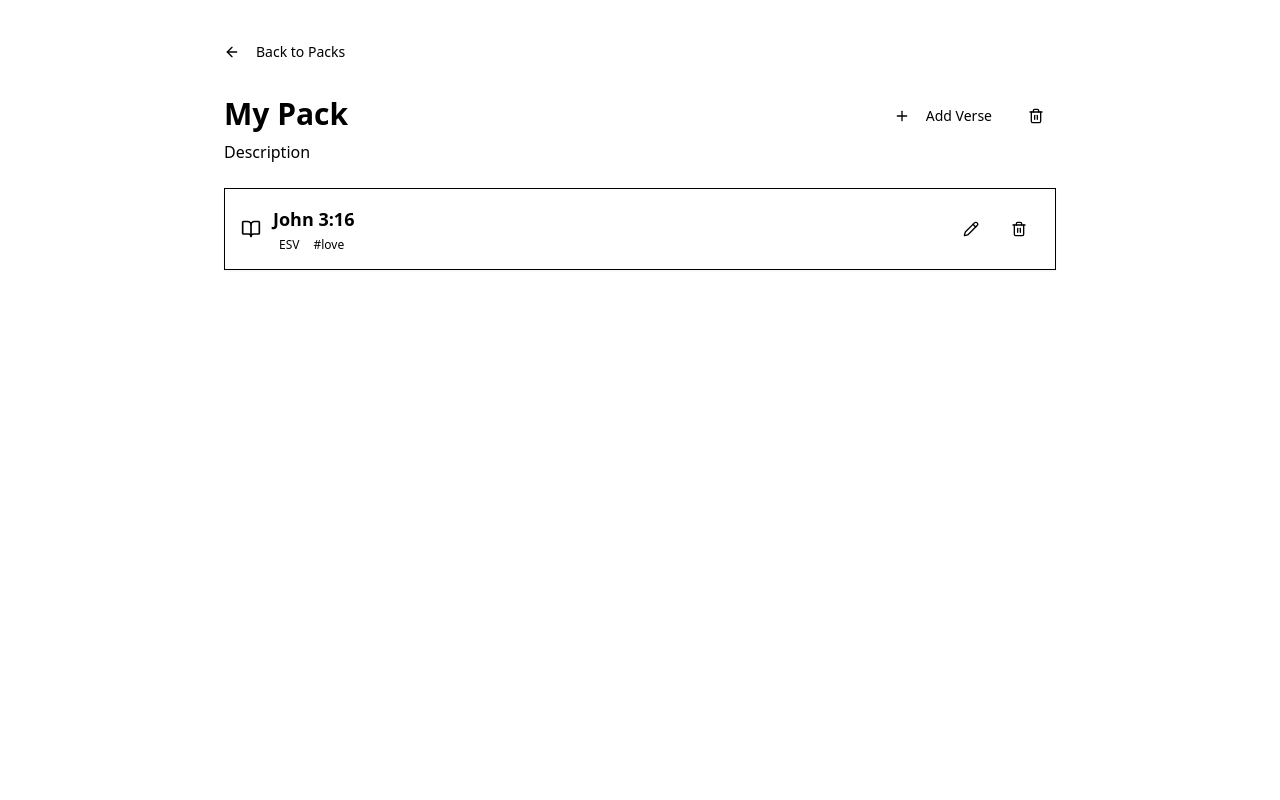
VersePackDetail Actions › views verse text
What coordinates should you click on to do the following:
click the text "John 3:16"
I would click on:
 (314, 219)
Its box is top-left (273, 205), bottom-right (354, 233).
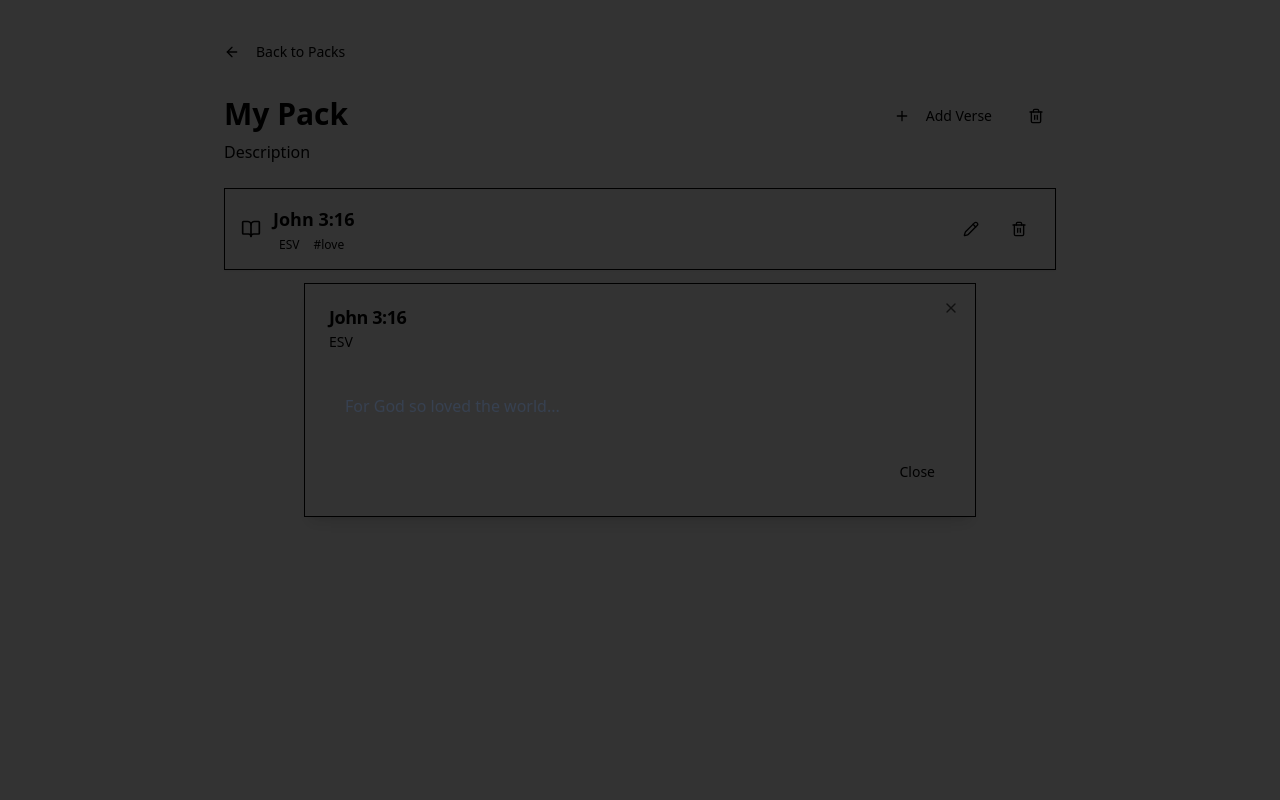
Expected: the text "For God so loved the world..." is shown, top-left (345, 395), bottom-right (560, 417)
